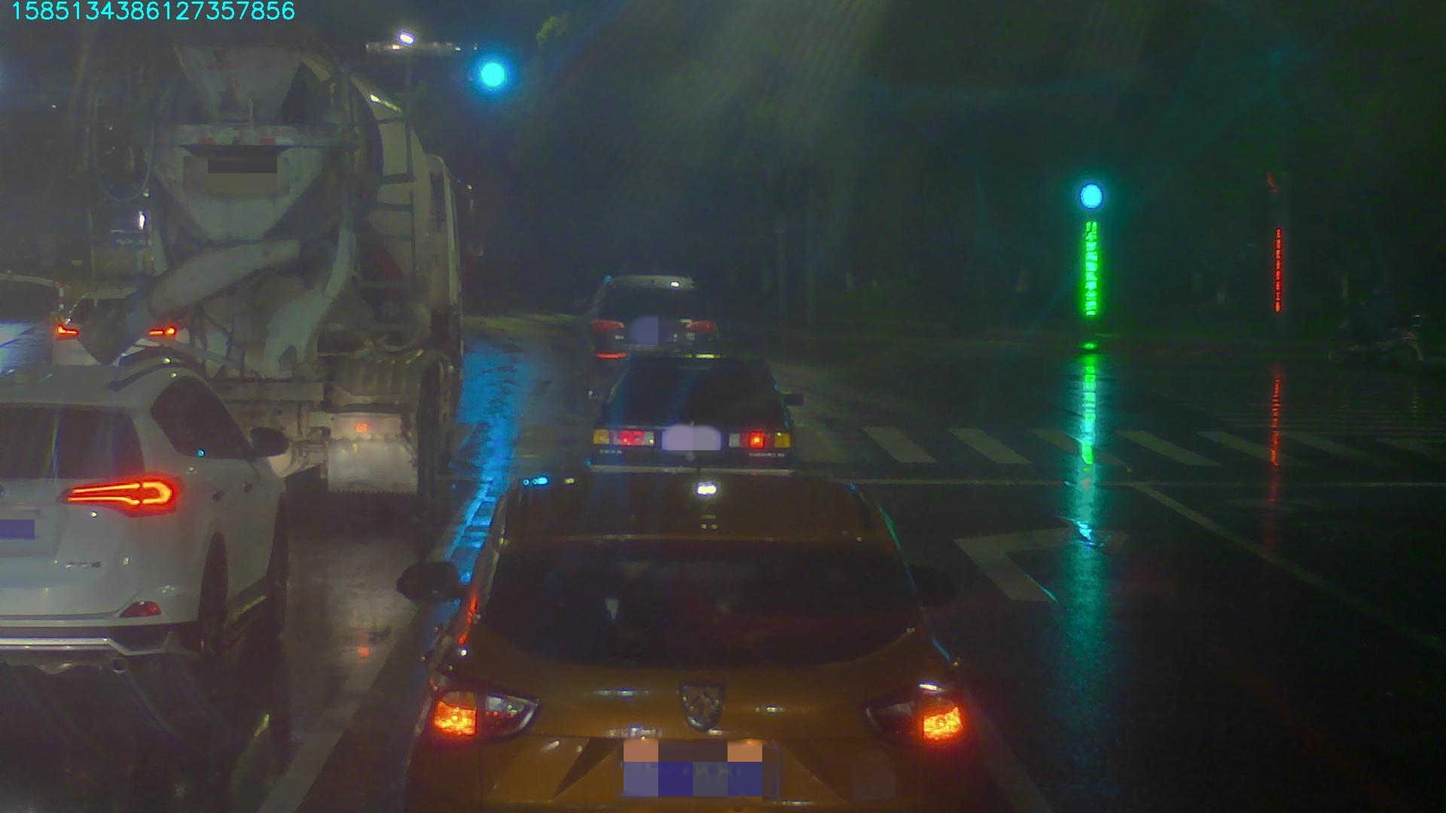green: (462, 43, 514, 102)
